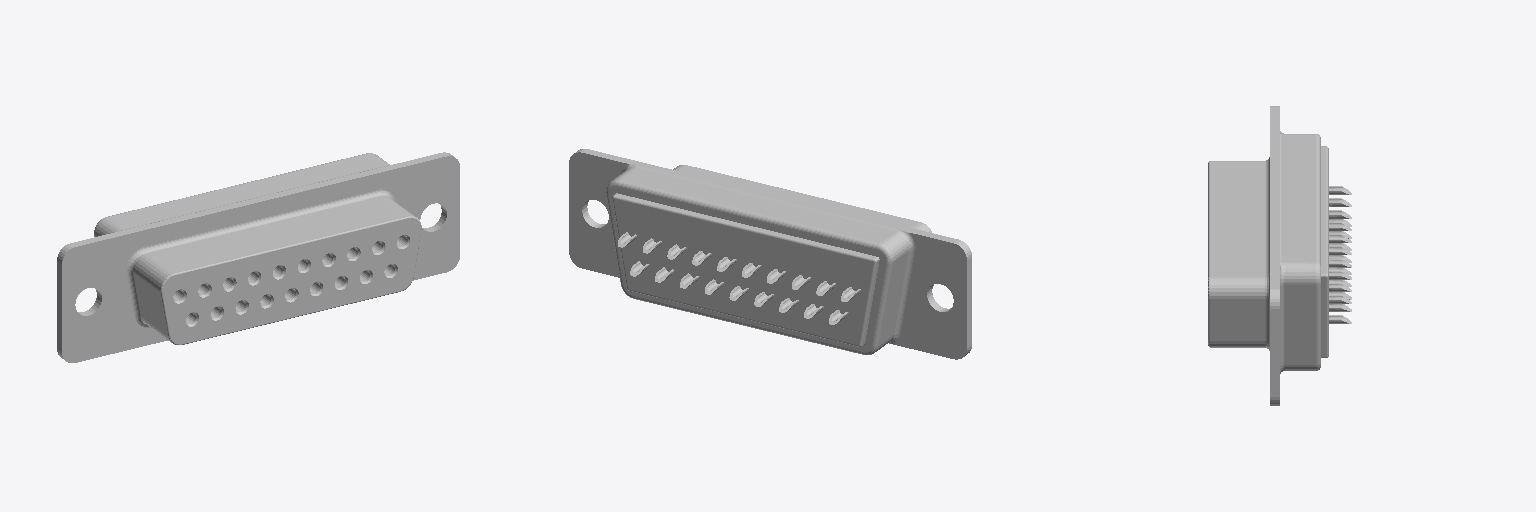
File: dbFemale19Pin.obj
3 views of the same model, side by side, from view 1: azimuth 30°, elevation 25°; view 2: azimuth 150°, elevation 25°; view 3: azimuth 270°, elevation 25° (orthographic).
Visible parts, largest first — view 1: Part__Feature; view 2: Part__Feature; view 3: Part__Feature.
Part boxes in pixels (x1,y1,x2,y2): Part__Feature: (57,152,459,362); Part__Feature: (569,149,971,359); Part__Feature: (1208,106,1351,405).
Bounding box in the file's own units: 44.9 × 12.5 × 14.